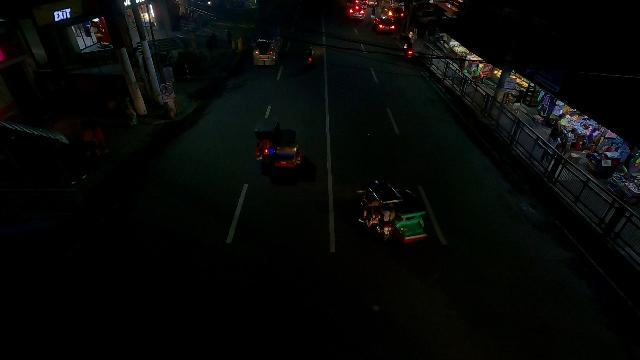jeepney: (251, 25, 281, 64)
